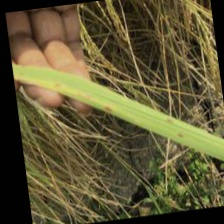Bacterial_Leaf_Blight: (53, 79, 65, 89), (166, 116, 174, 124), (177, 132, 187, 138), (104, 107, 114, 112)
